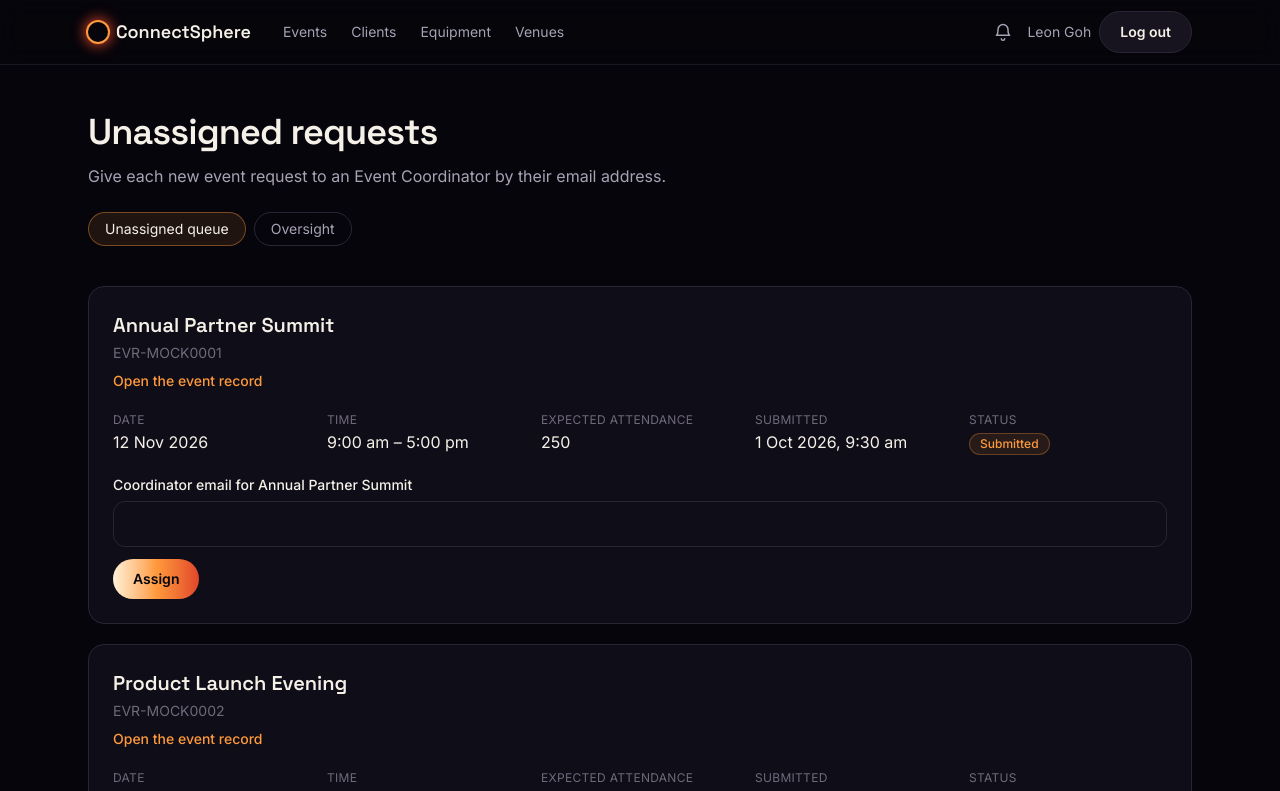
SCRUM-95 the Lead queue screen › opens the read-only record of a request waiting in the queue (SCRUM-24 AC10)
This screenshot has width=1280, height=791.
What coordinates should you click on to do the following:
click the link "Open the event record" below "EVR-MOCK0002"
I would click on:
 (188, 739)
Its box is x1=113 y1=729 x2=262 y2=749.
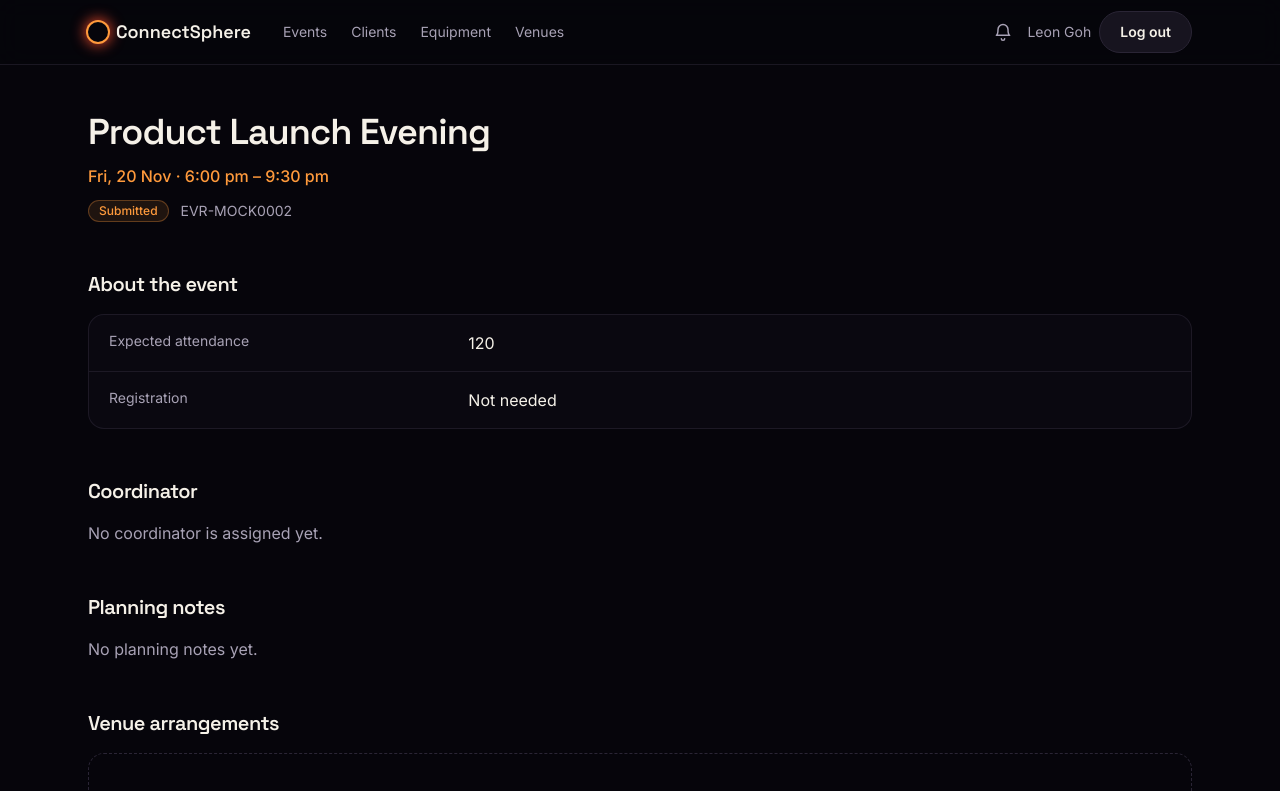
Expected: the heading "Product Launch Evening" is shown, x1=88 y1=109 x2=490 y2=155
Expected: the text "No coordinator is assigned yet." is shown, x1=88 y1=523 x2=323 y2=543
